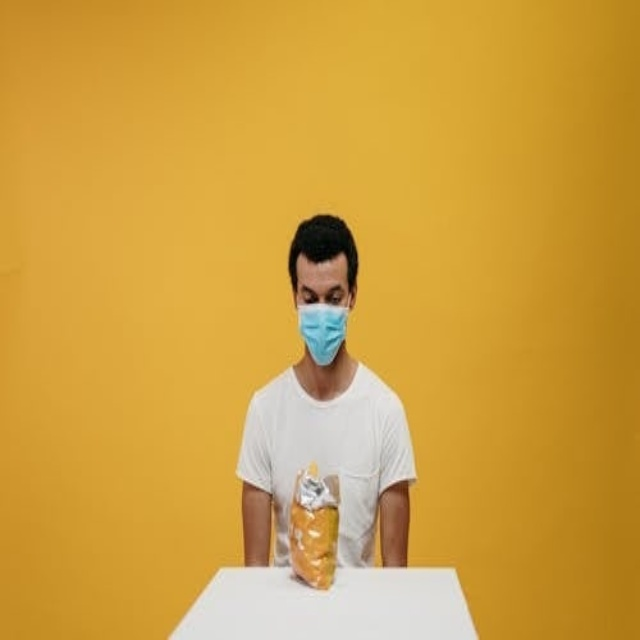Mascara: (297, 298, 349, 365)
Sin_gafas: (296, 273, 347, 313)
